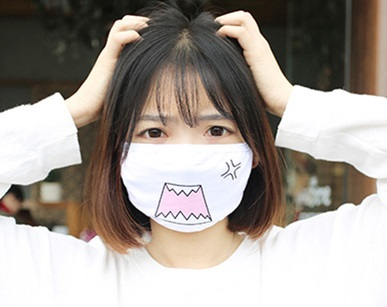face_mask: (119, 74, 249, 234)
